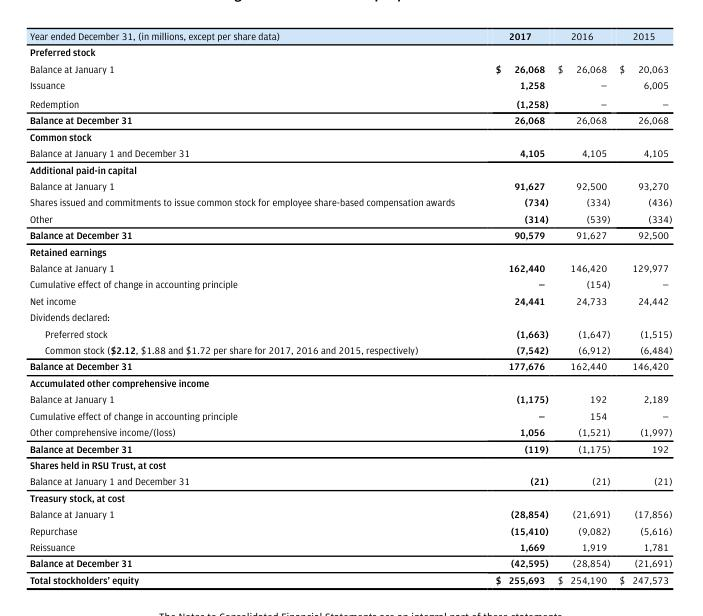table: (28, 28, 671, 585)
table column: (28, 28, 474, 585), (474, 28, 552, 585), (552, 28, 614, 585), (614, 28, 671, 585)
table column header: (28, 28, 671, 43)
table projected row header: (28, 127, 671, 144), (28, 160, 671, 177), (28, 242, 671, 259), (28, 488, 671, 505), (28, 43, 671, 59), (28, 308, 671, 324), (28, 374, 671, 390), (28, 456, 671, 472)
table row: (28, 93, 671, 111), (28, 59, 671, 76), (28, 76, 671, 93), (28, 127, 671, 144), (28, 160, 671, 177), (28, 209, 671, 226), (28, 242, 671, 259), (28, 291, 671, 308), (28, 324, 671, 341), (28, 357, 671, 374), (28, 406, 671, 423), (28, 439, 671, 456), (28, 488, 671, 505), (28, 521, 671, 538), (28, 554, 671, 571), (28, 43, 671, 59), (28, 111, 671, 127), (28, 144, 671, 160), (28, 177, 671, 193), (28, 193, 671, 209), (28, 226, 671, 242), (28, 259, 671, 275), (28, 275, 671, 291), (28, 308, 671, 324), (28, 341, 671, 357), (28, 374, 671, 390), (28, 390, 671, 406), (28, 423, 671, 439), (28, 456, 671, 472), (28, 472, 671, 488), (28, 505, 671, 521), (28, 538, 671, 554), (28, 28, 671, 43), (28, 571, 671, 585)
